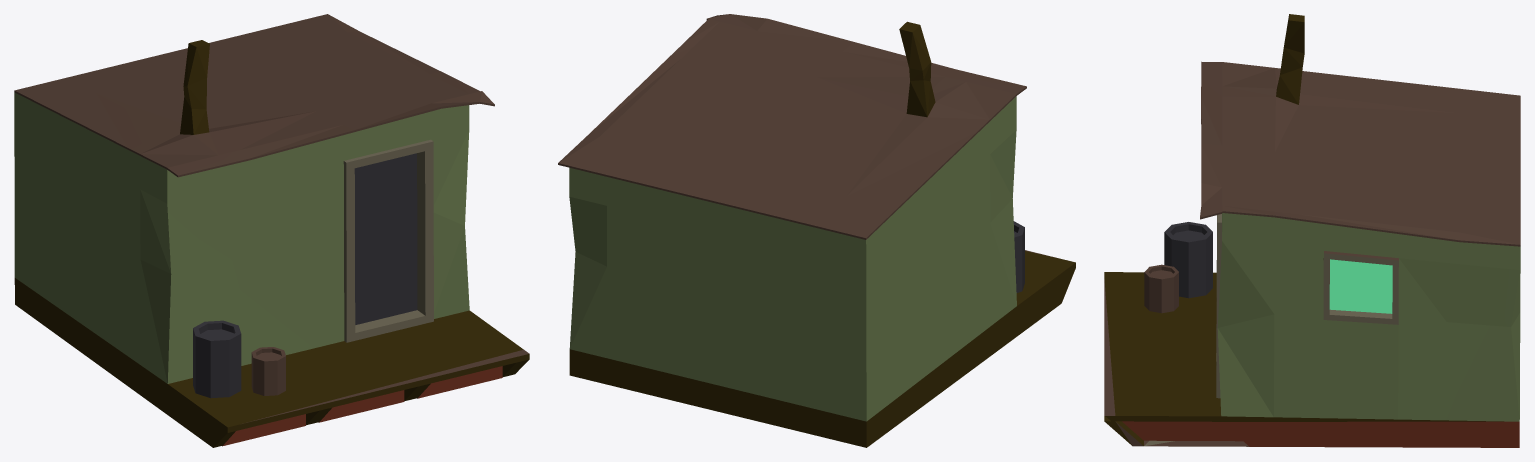
File: MINIBAJTA.glb
3 views of the same model, side by side, from view 1: azimuth 30°, elevation 25°; view 2: azimuth 150°, elevation 25°; view 3: azimuth 270°, elevation 25° (orthographic). The views are drawn at different scales.
Visible parts, largest first — view 1: Plane.001; view 2: Plane.001; view 3: Plane.001.
Boxes of the visible parts, box(x1,y1,x2,y2) form: Plane.001: box(14, 14, 529, 447); Plane.001: box(558, 14, 1075, 447); Plane.001: box(1104, 14, 1520, 447).
Bounding box in the file's own units: 2.44 × 2.42 × 2.85.
